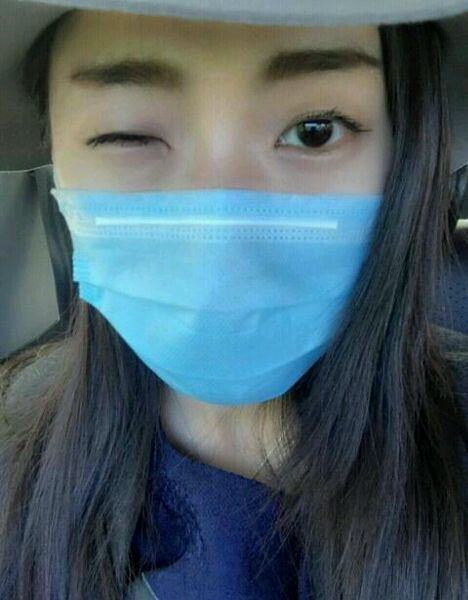face_mask: (54, 1, 389, 396)
